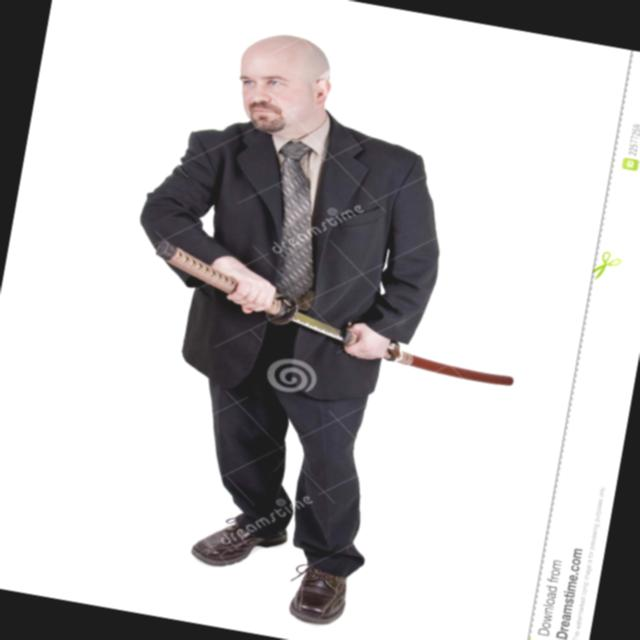long sword: (140, 235, 534, 396)
